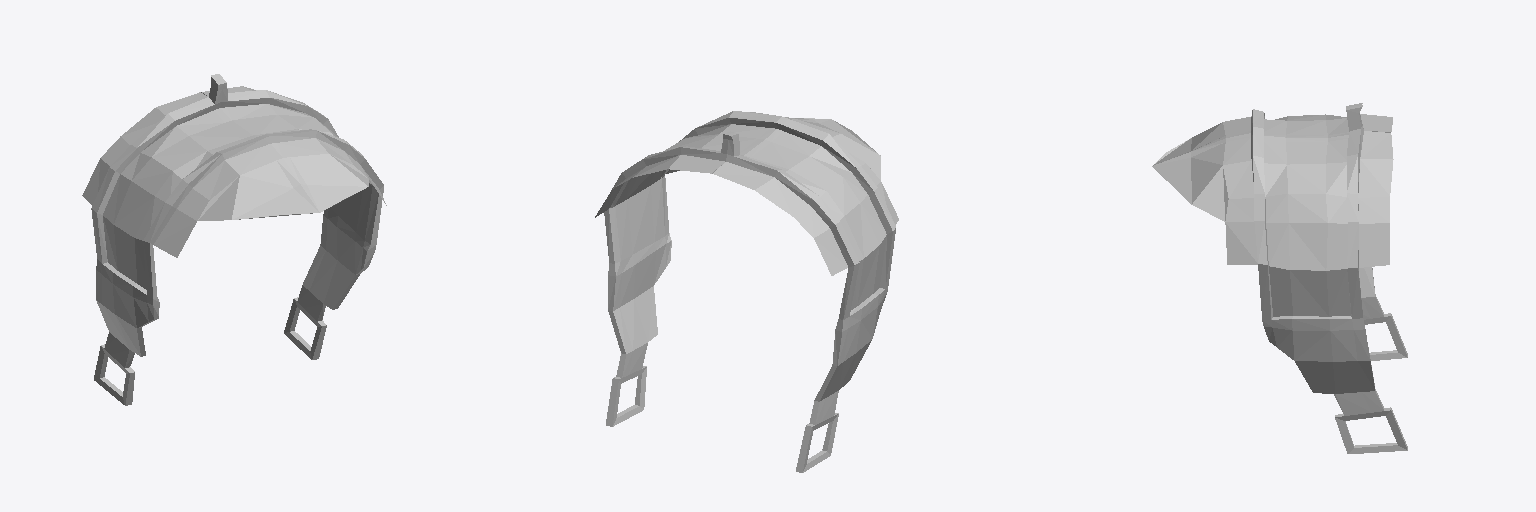
Rendered from seat_horse_map.OBJ.
3 renders of one model, left to right at view 1: azimuth 30°, elevation 25°; view 2: azimuth 150°, elevation 25°; view 3: azimuth 270°, elevation 25°, orthographic.
Visible parts, largest first — view 1: sadle Geo_Grp; view 2: sadle Geo_Grp; view 3: sadle Geo_Grp.
Part boxes in pixels (x1,y1,x2,y2): sadle Geo_Grp: (82,74,386,405); sadle Geo_Grp: (595,111,898,472); sadle Geo_Grp: (1152,103,1407,453).
Size of the model in its own units: 6.22 by 7.16 by 5.49.